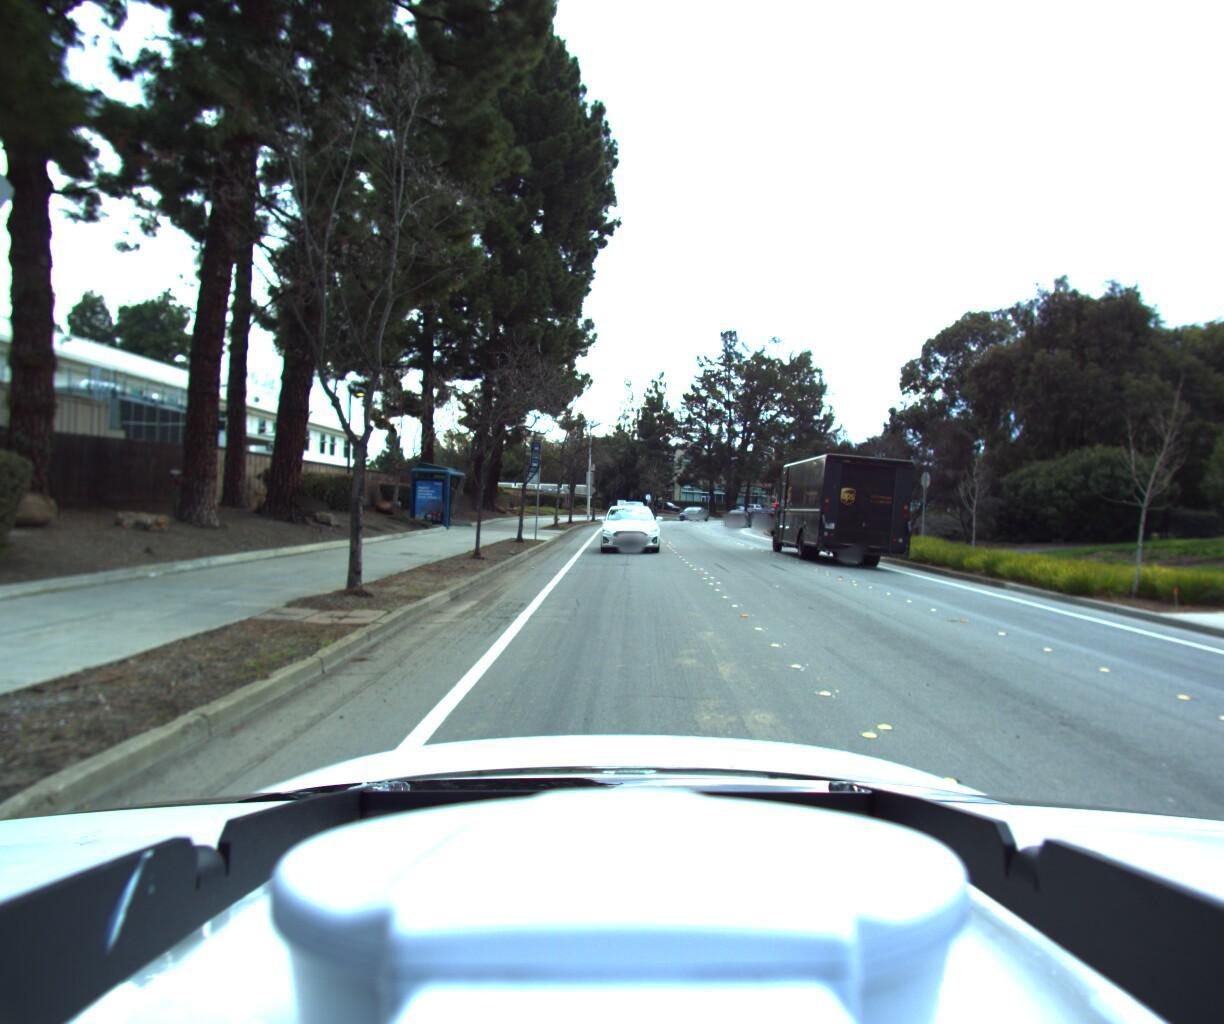car: (598, 499, 663, 553), (724, 507, 756, 525)
truck: (759, 446, 906, 570)
